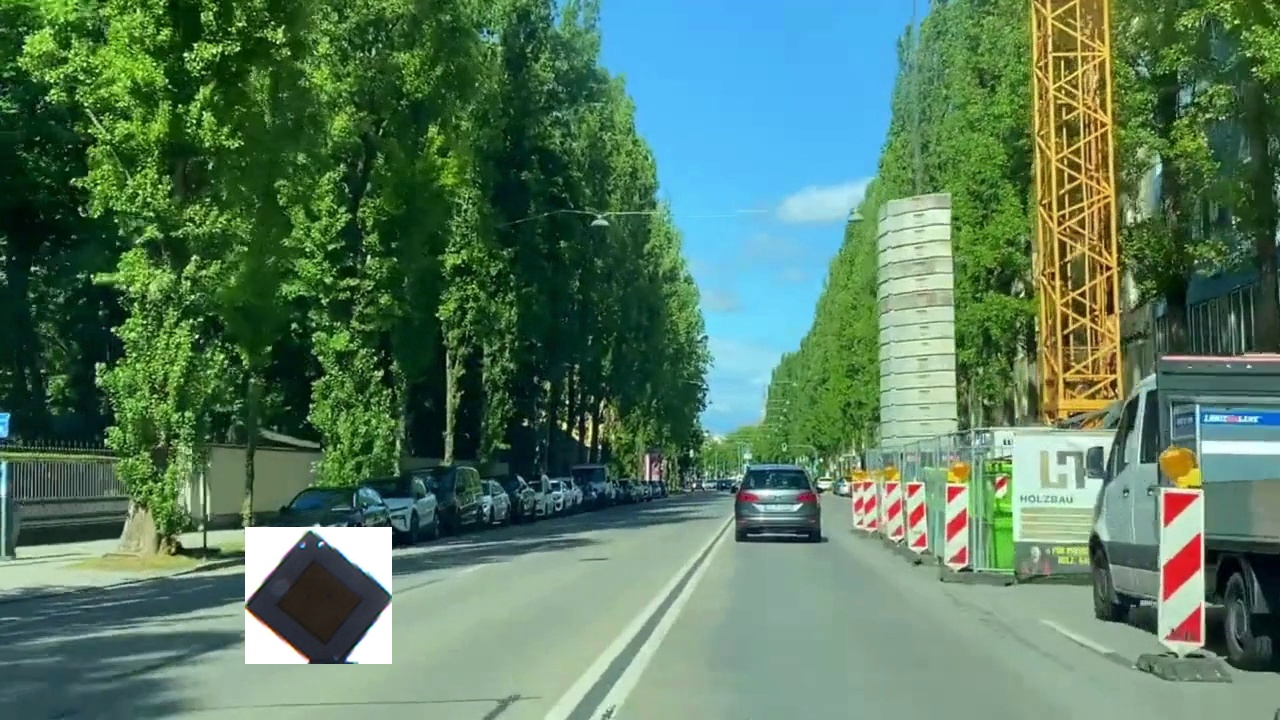Priority road: (245, 527, 392, 664)
